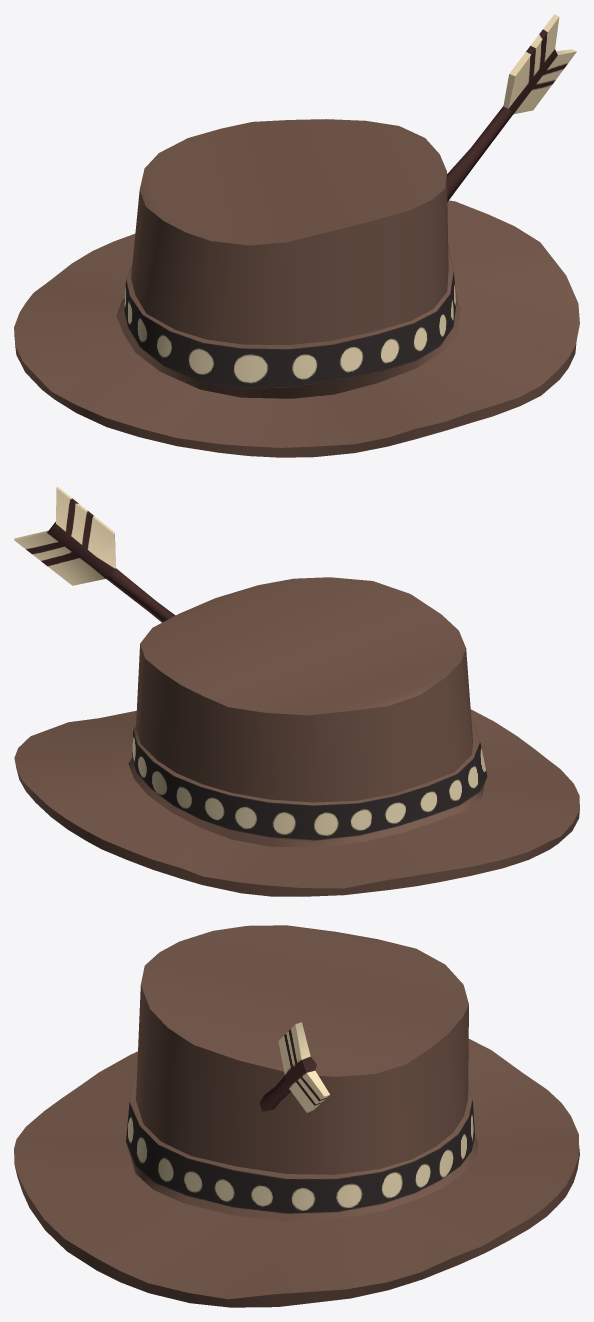
The model's file is 46牛仔帽.fbx.
3 views of the same model, one above another, from view 1: azimuth 30°, elevation 25°; view 2: azimuth 150°, elevation 25°; view 3: azimuth 270°, elevation 25° (orthographic). The views are drawn at different scales.
Parts seen in each view (by area): view 1: 46牛仔帽; view 2: 46牛仔帽; view 3: 46牛仔帽.
Part boxes in pixels (box(x1,y1,x2,y2)): 46牛仔帽: box(14, 14, 579, 457); 46牛仔帽: box(14, 486, 579, 896); 46牛仔帽: box(14, 925, 579, 1307).
Size of the model in its own units: 0.727 by 0.3502 by 0.6041.
